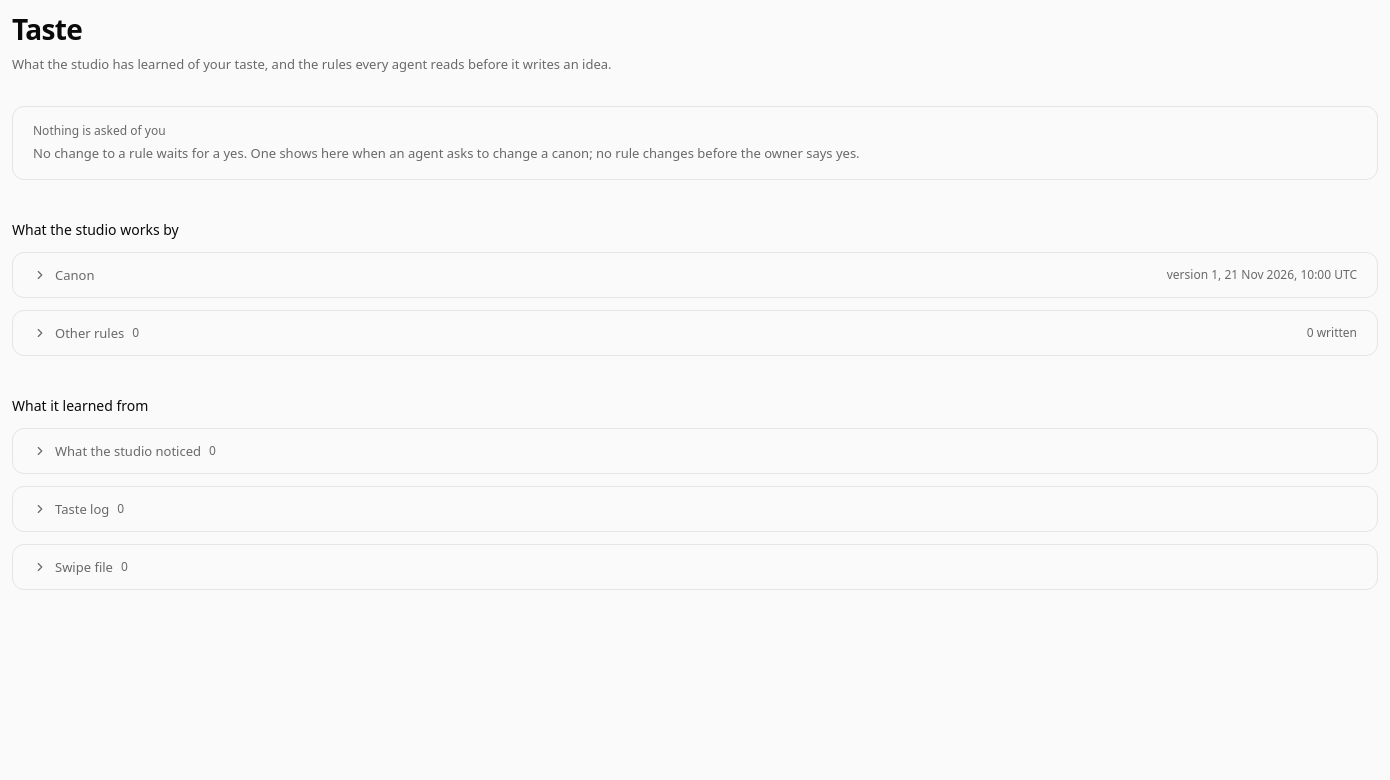
it: Taste page › gives a member no way to edit the canon
Click the button "Canon version 1, 21 Nov 2026, 10:00 UTC" at point(75, 275), box [13,253,1377,297]
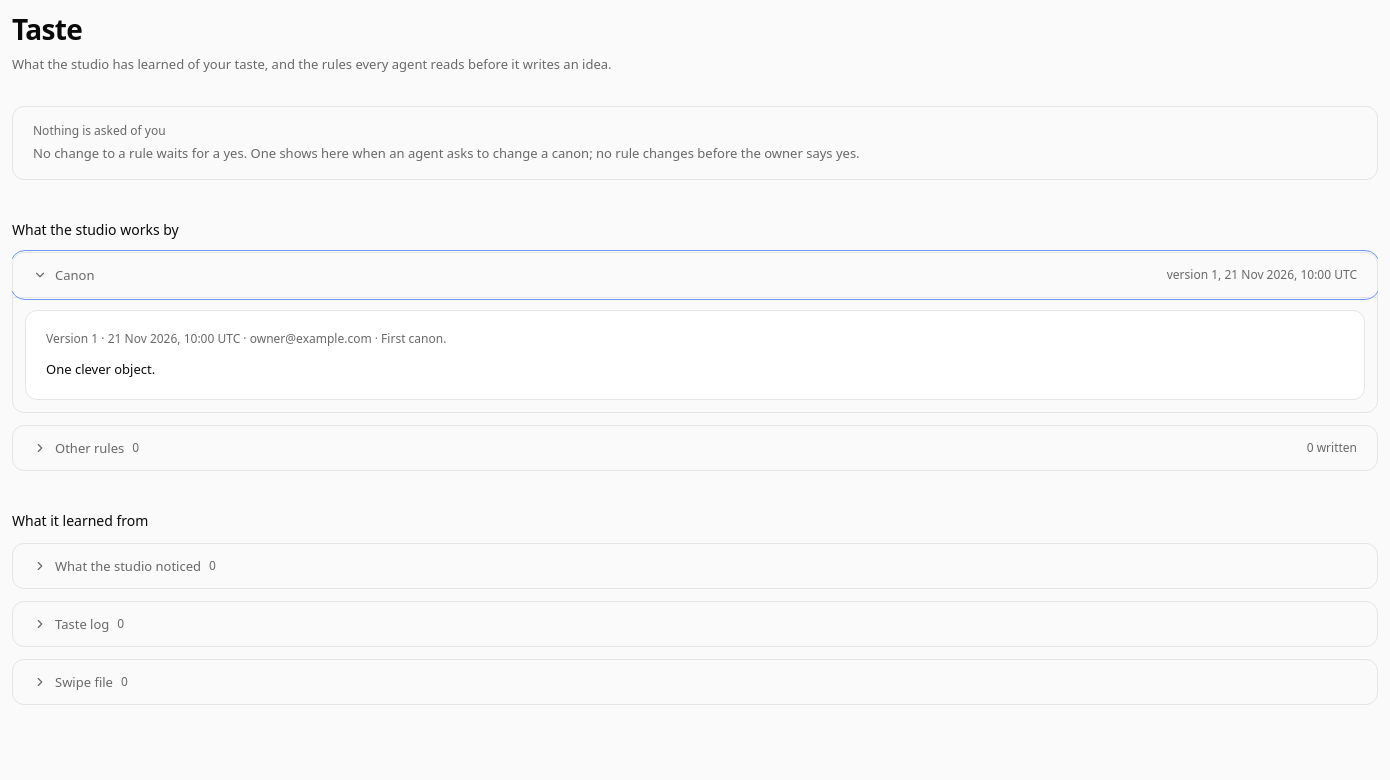
Result: the text "One clever object." is shown at [46,360,155,378]
